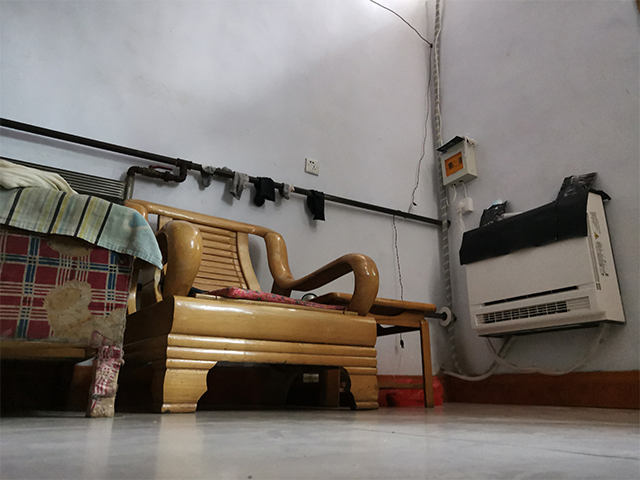bed: (1, 154, 164, 420)
stool: (118, 196, 381, 415)
table: (308, 290, 437, 408)
